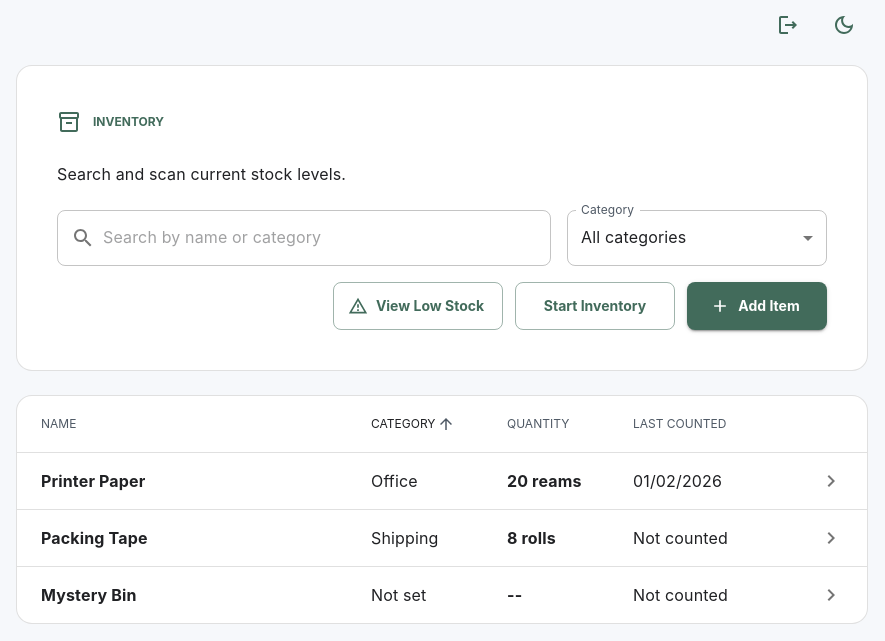
Test case: HomePage › filters items with no category
Check: the text "Printer Paper" is shown, box [41,471,145,491]
Press the mouse on the dropdown named "Category" at [634, 237], box [581,227,686,247]
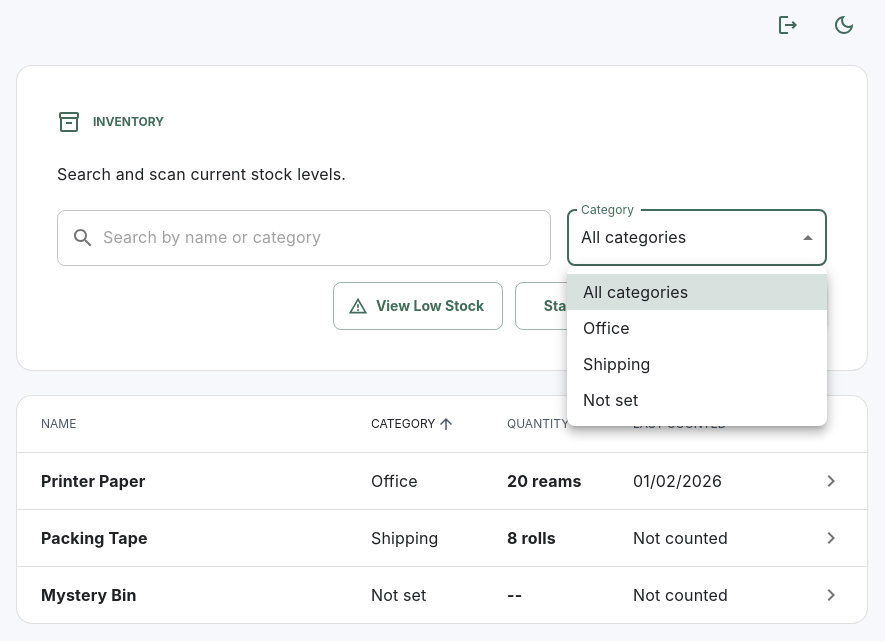
Click the option "Not set".
click(611, 400)  # box [583,390,638,410]
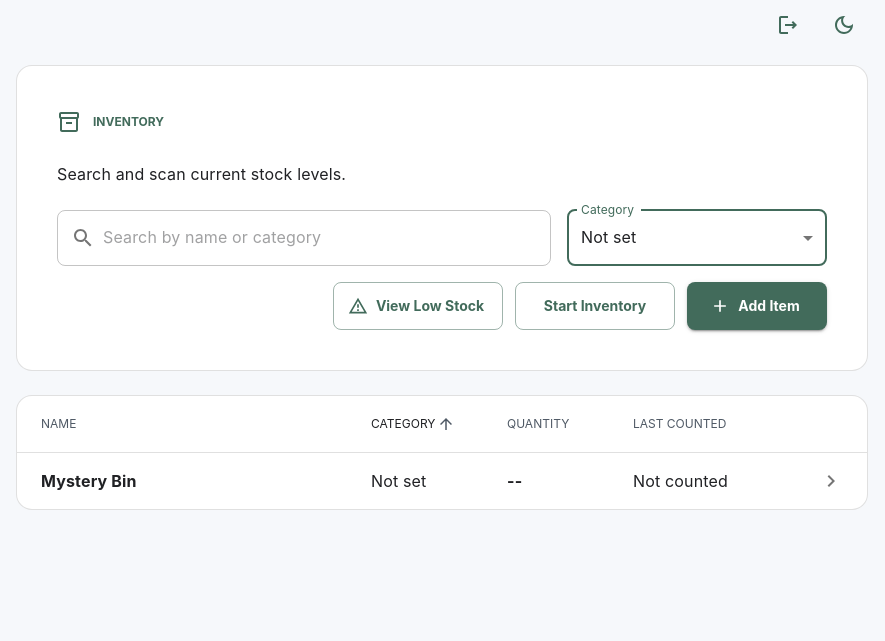
Check: the text "Mystery Bin" is shown, box [41,471,137,491]
Check: the link "Printer Paper" is gone
Check: the link "Packing Tape" is gone
